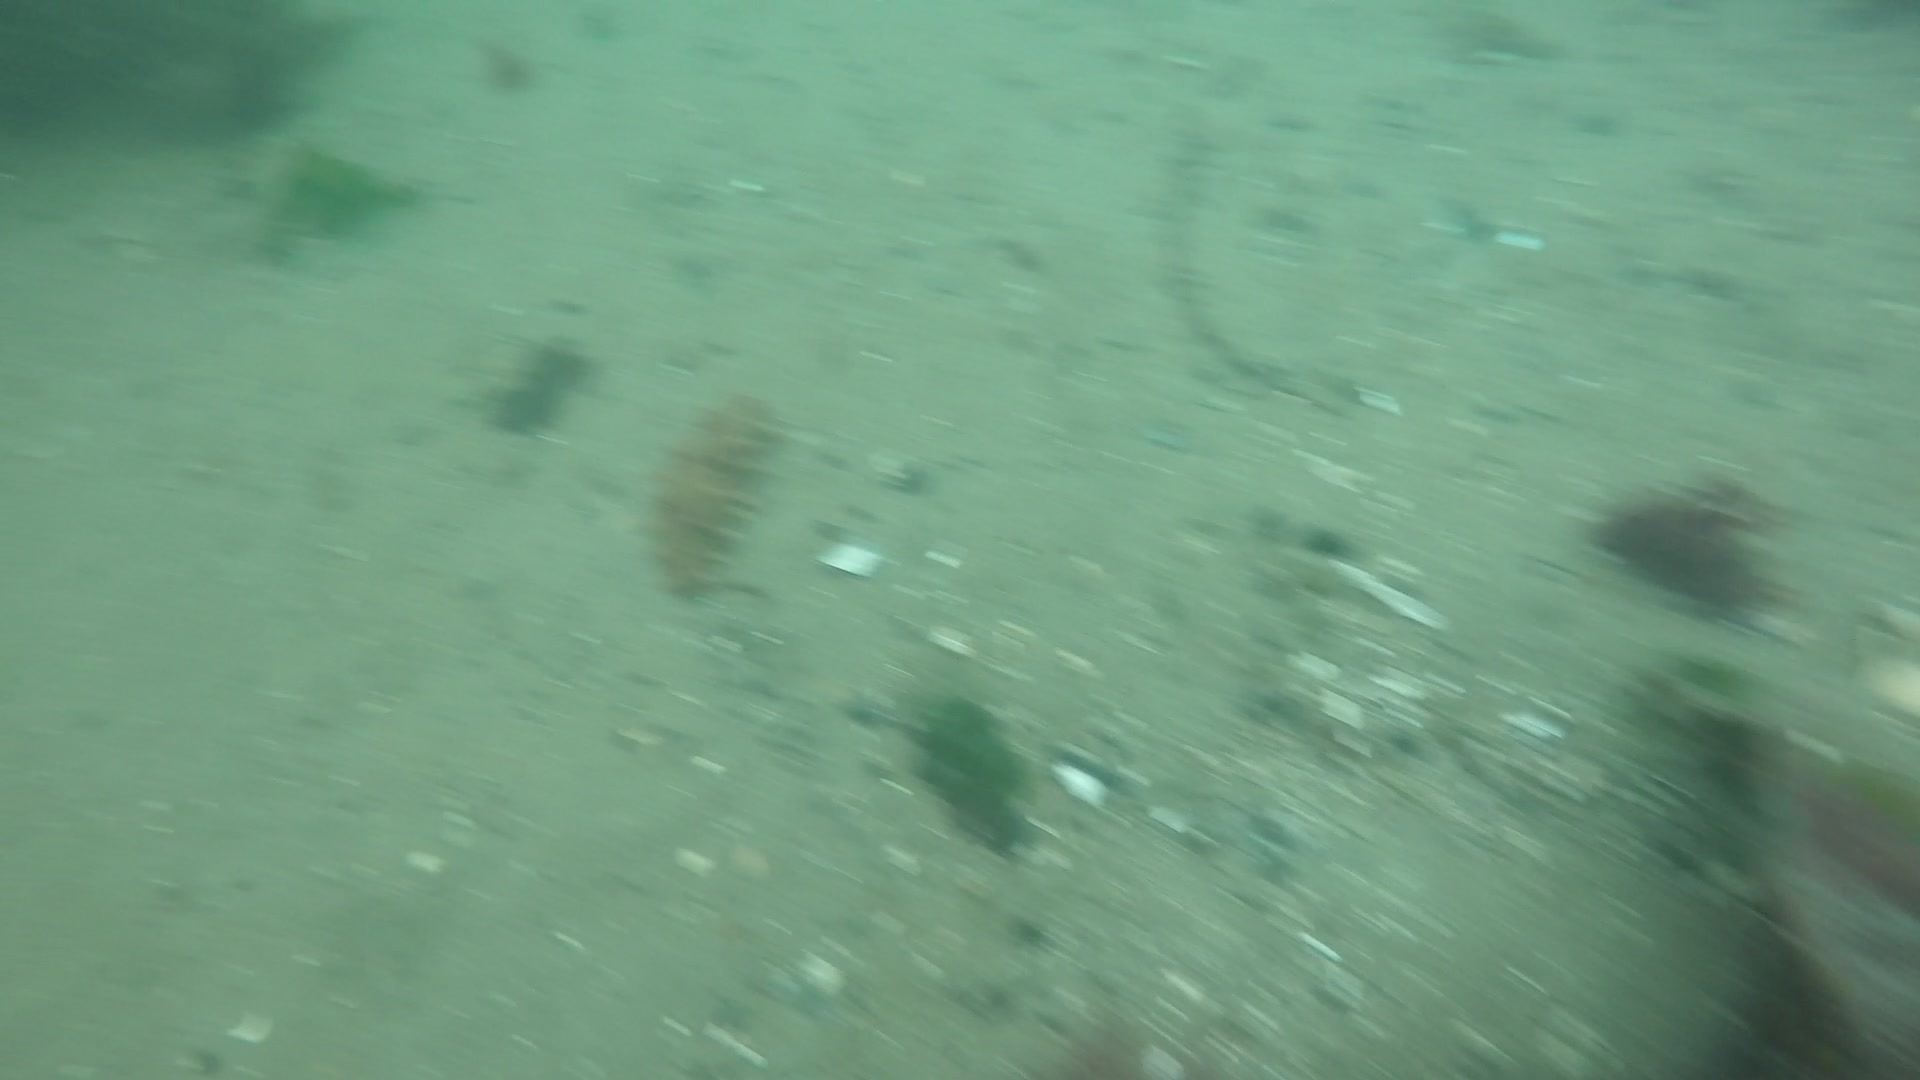holothurian: (641, 390, 781, 597)
